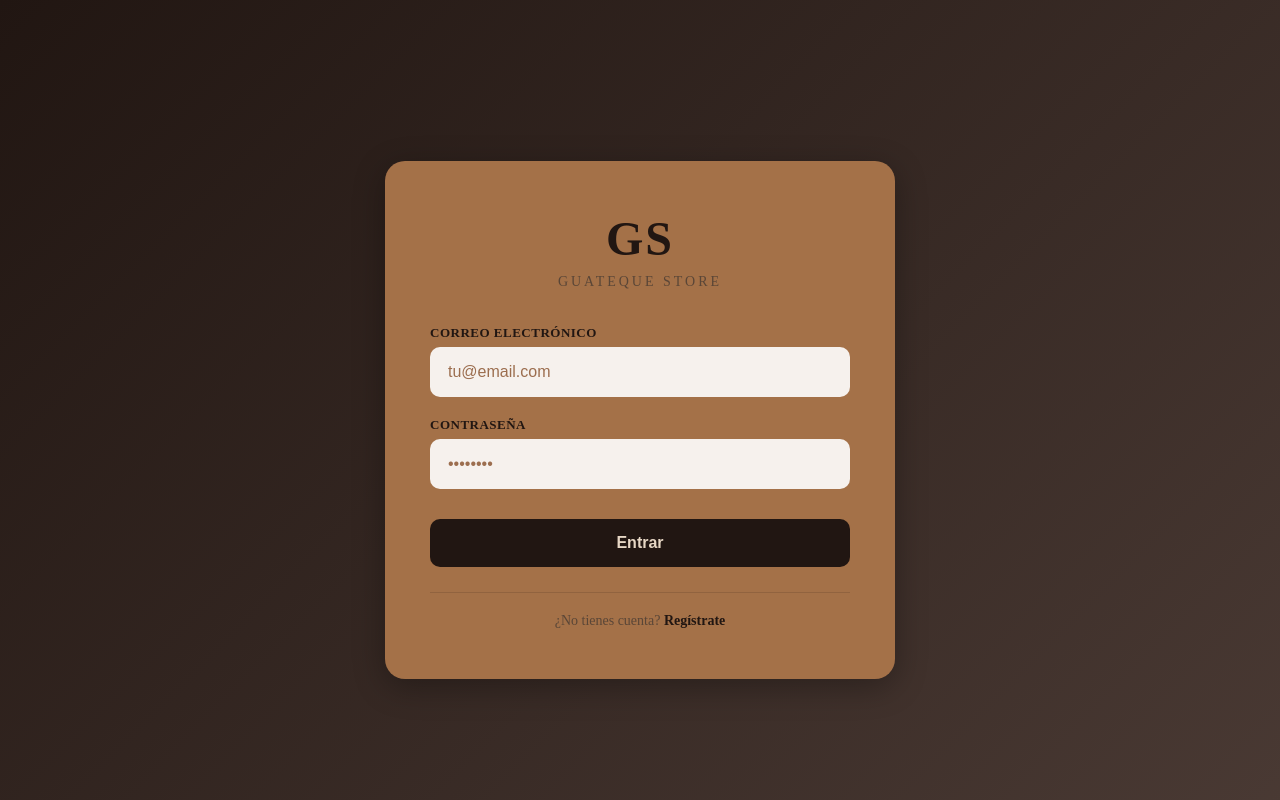
Test: Login Component › Submit del formulario › debe deshabilitar el botón mientras carga
The width and height of the screenshot is (1280, 800).
Type "test@test.com" into the field with placeholder "tu@email.com".
click(640, 372); type("test@test.com")  # box [430,347,850,397]
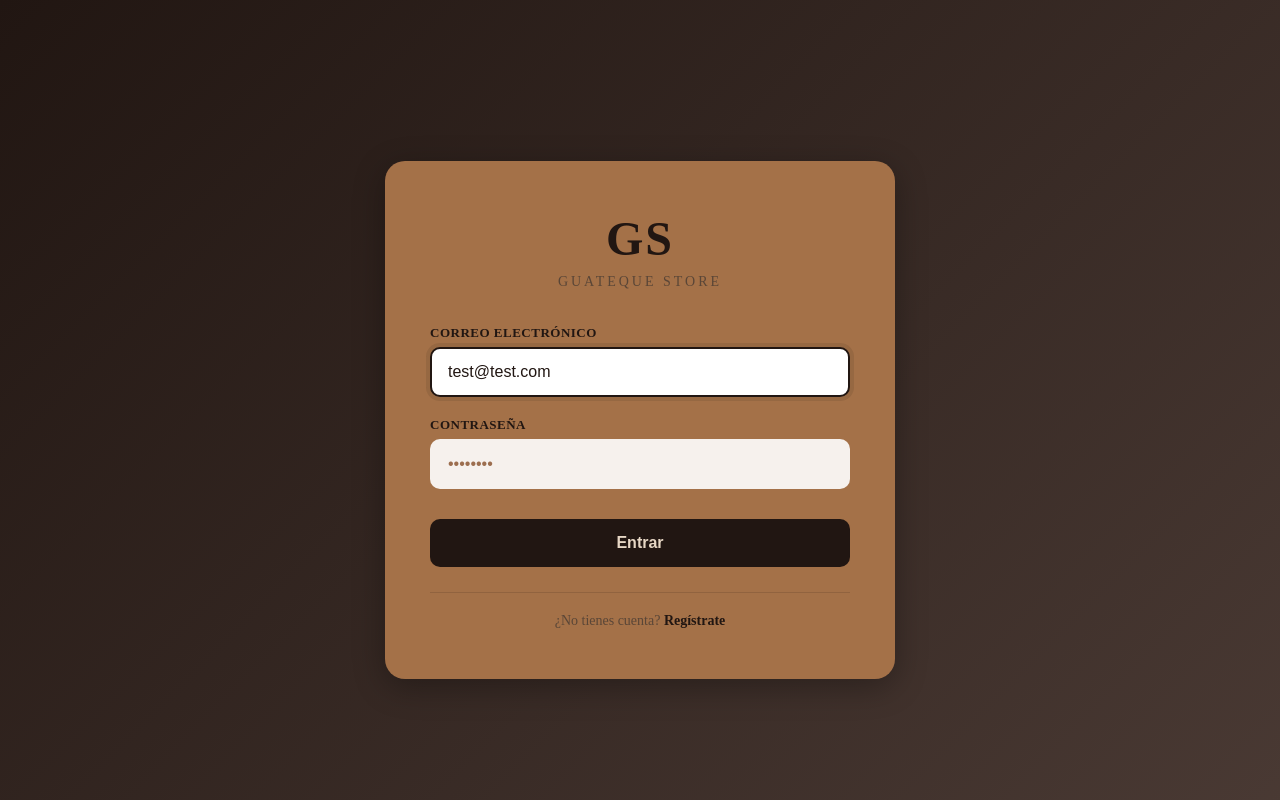
Type "123456" into the password field with placeholder "••••••••".
click(640, 464); type("123456")  # box [430,439,850,489]
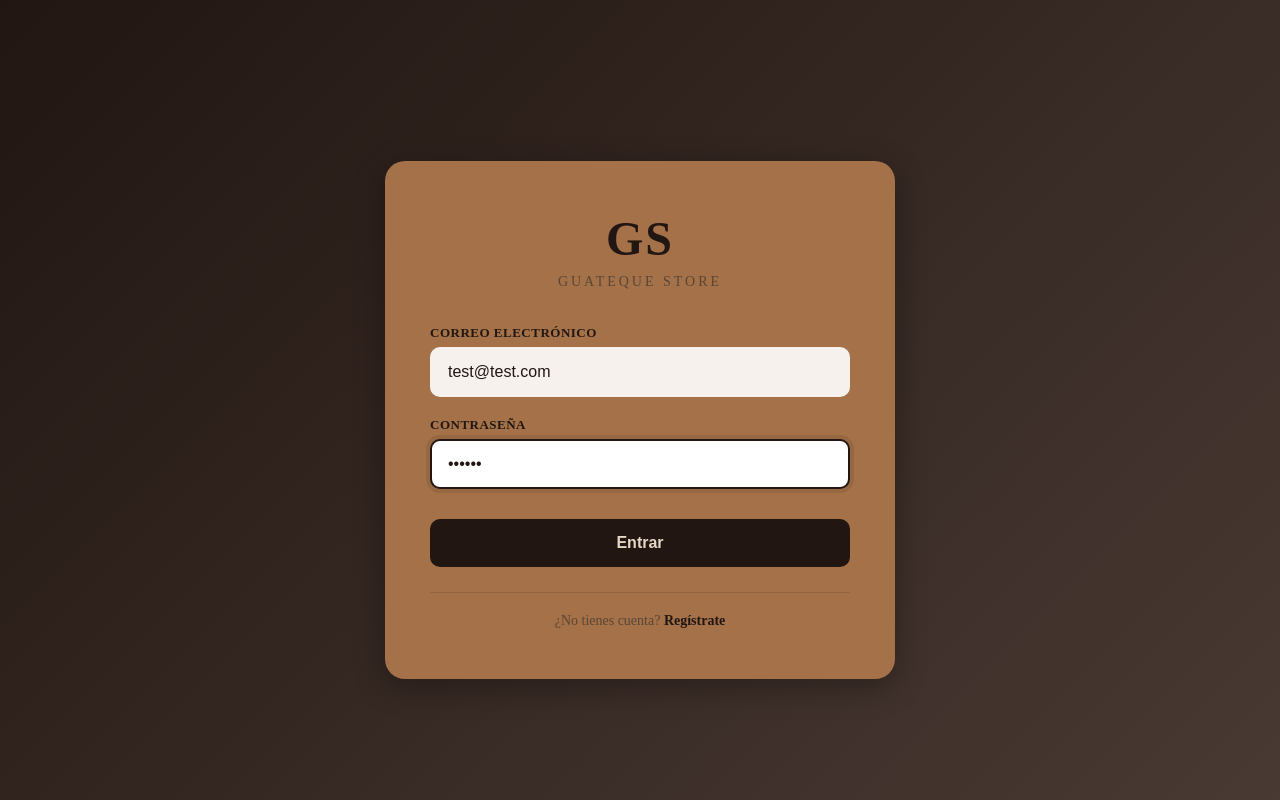
Click the button "Entrar".
click(640, 543)  # box [430,519,850,567]
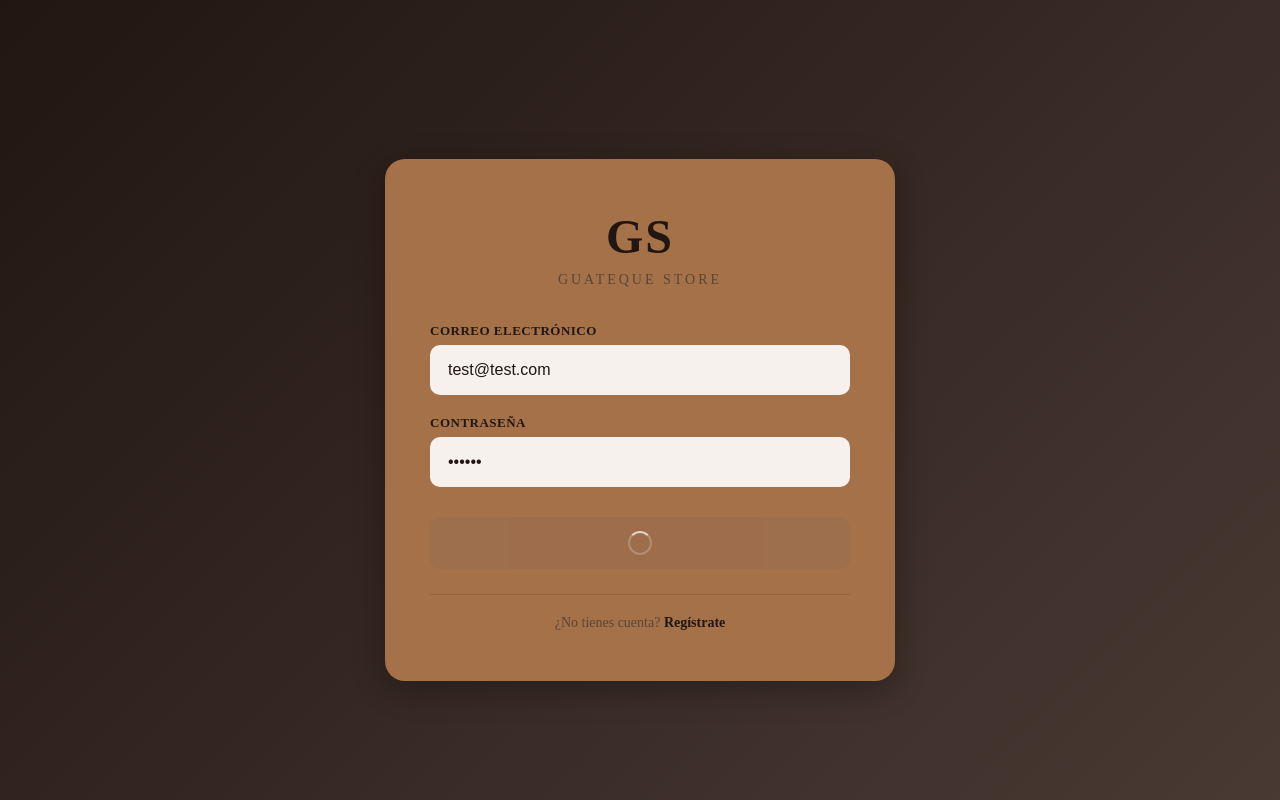
Expected: the button is disabled, [430,517,850,569]
